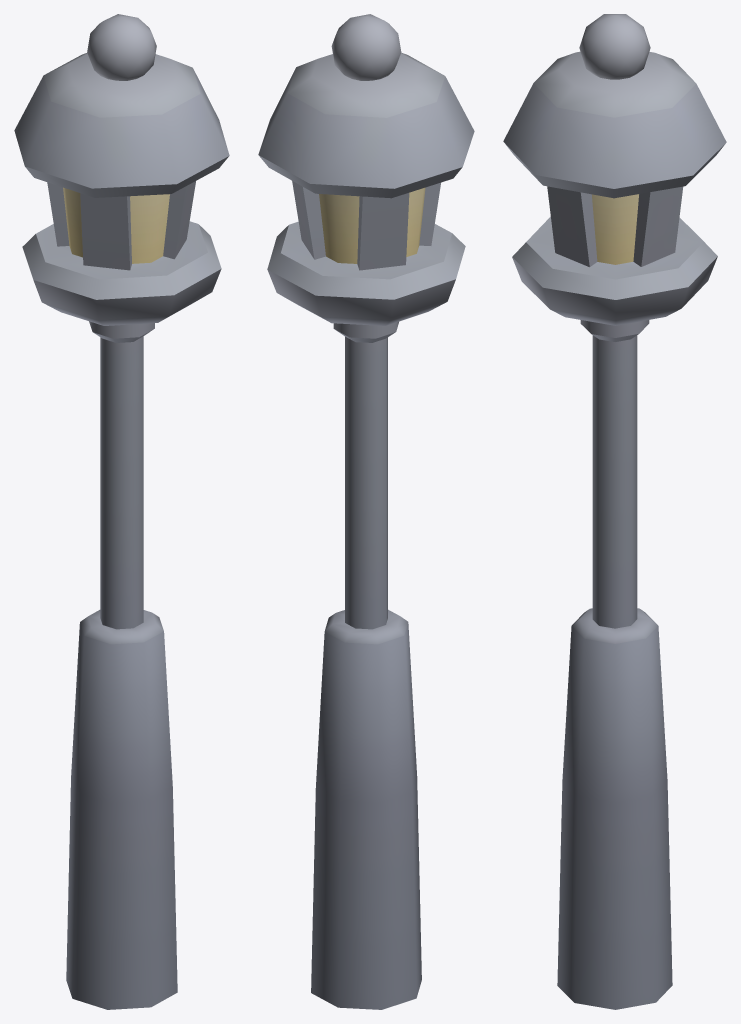
Rendered from prop_park_street_lantern.glb.
3 views of the same model, side by side, from view 1: azimuth 30°, elevation 25°; view 2: azimuth 150°, elevation 25°; view 3: azimuth 270°, elevation 25° (orthographic).
Parts seen in each view (by area): view 1: street_lantern; view 2: street_lantern; view 3: street_lantern.
Part boxes in pixels (x1=…): street_lantern: x1=14, y1=14, x2=229, y2=1009; street_lantern: x1=258, y1=14, x2=474, y2=1009; street_lantern: x1=503, y1=14, x2=726, y2=1009.
Size of the model in its own units: 0.9398 by 4.5 by 0.9398.
Materials: 1 (1 with a texture image).
